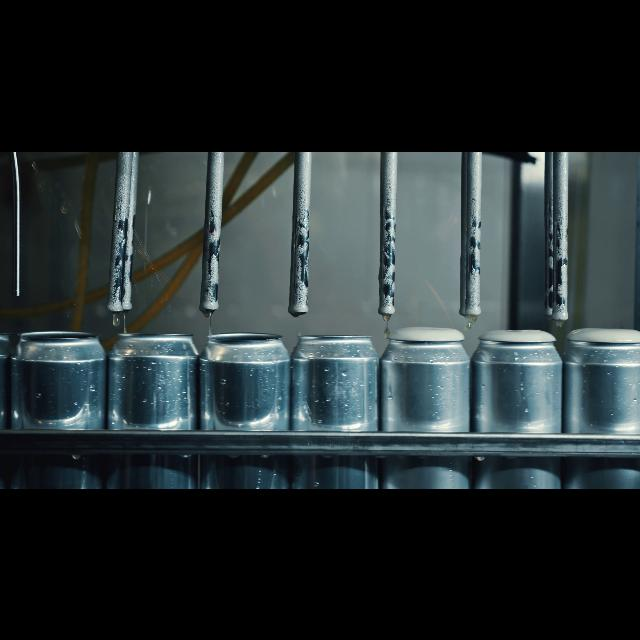empty: (10, 322, 102, 488), (206, 324, 284, 488), (112, 330, 192, 488), (296, 329, 370, 489)
full: (376, 314, 464, 488), (473, 318, 555, 488), (566, 320, 640, 488)
